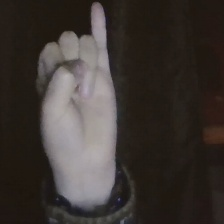I: (28, 1, 128, 170)
